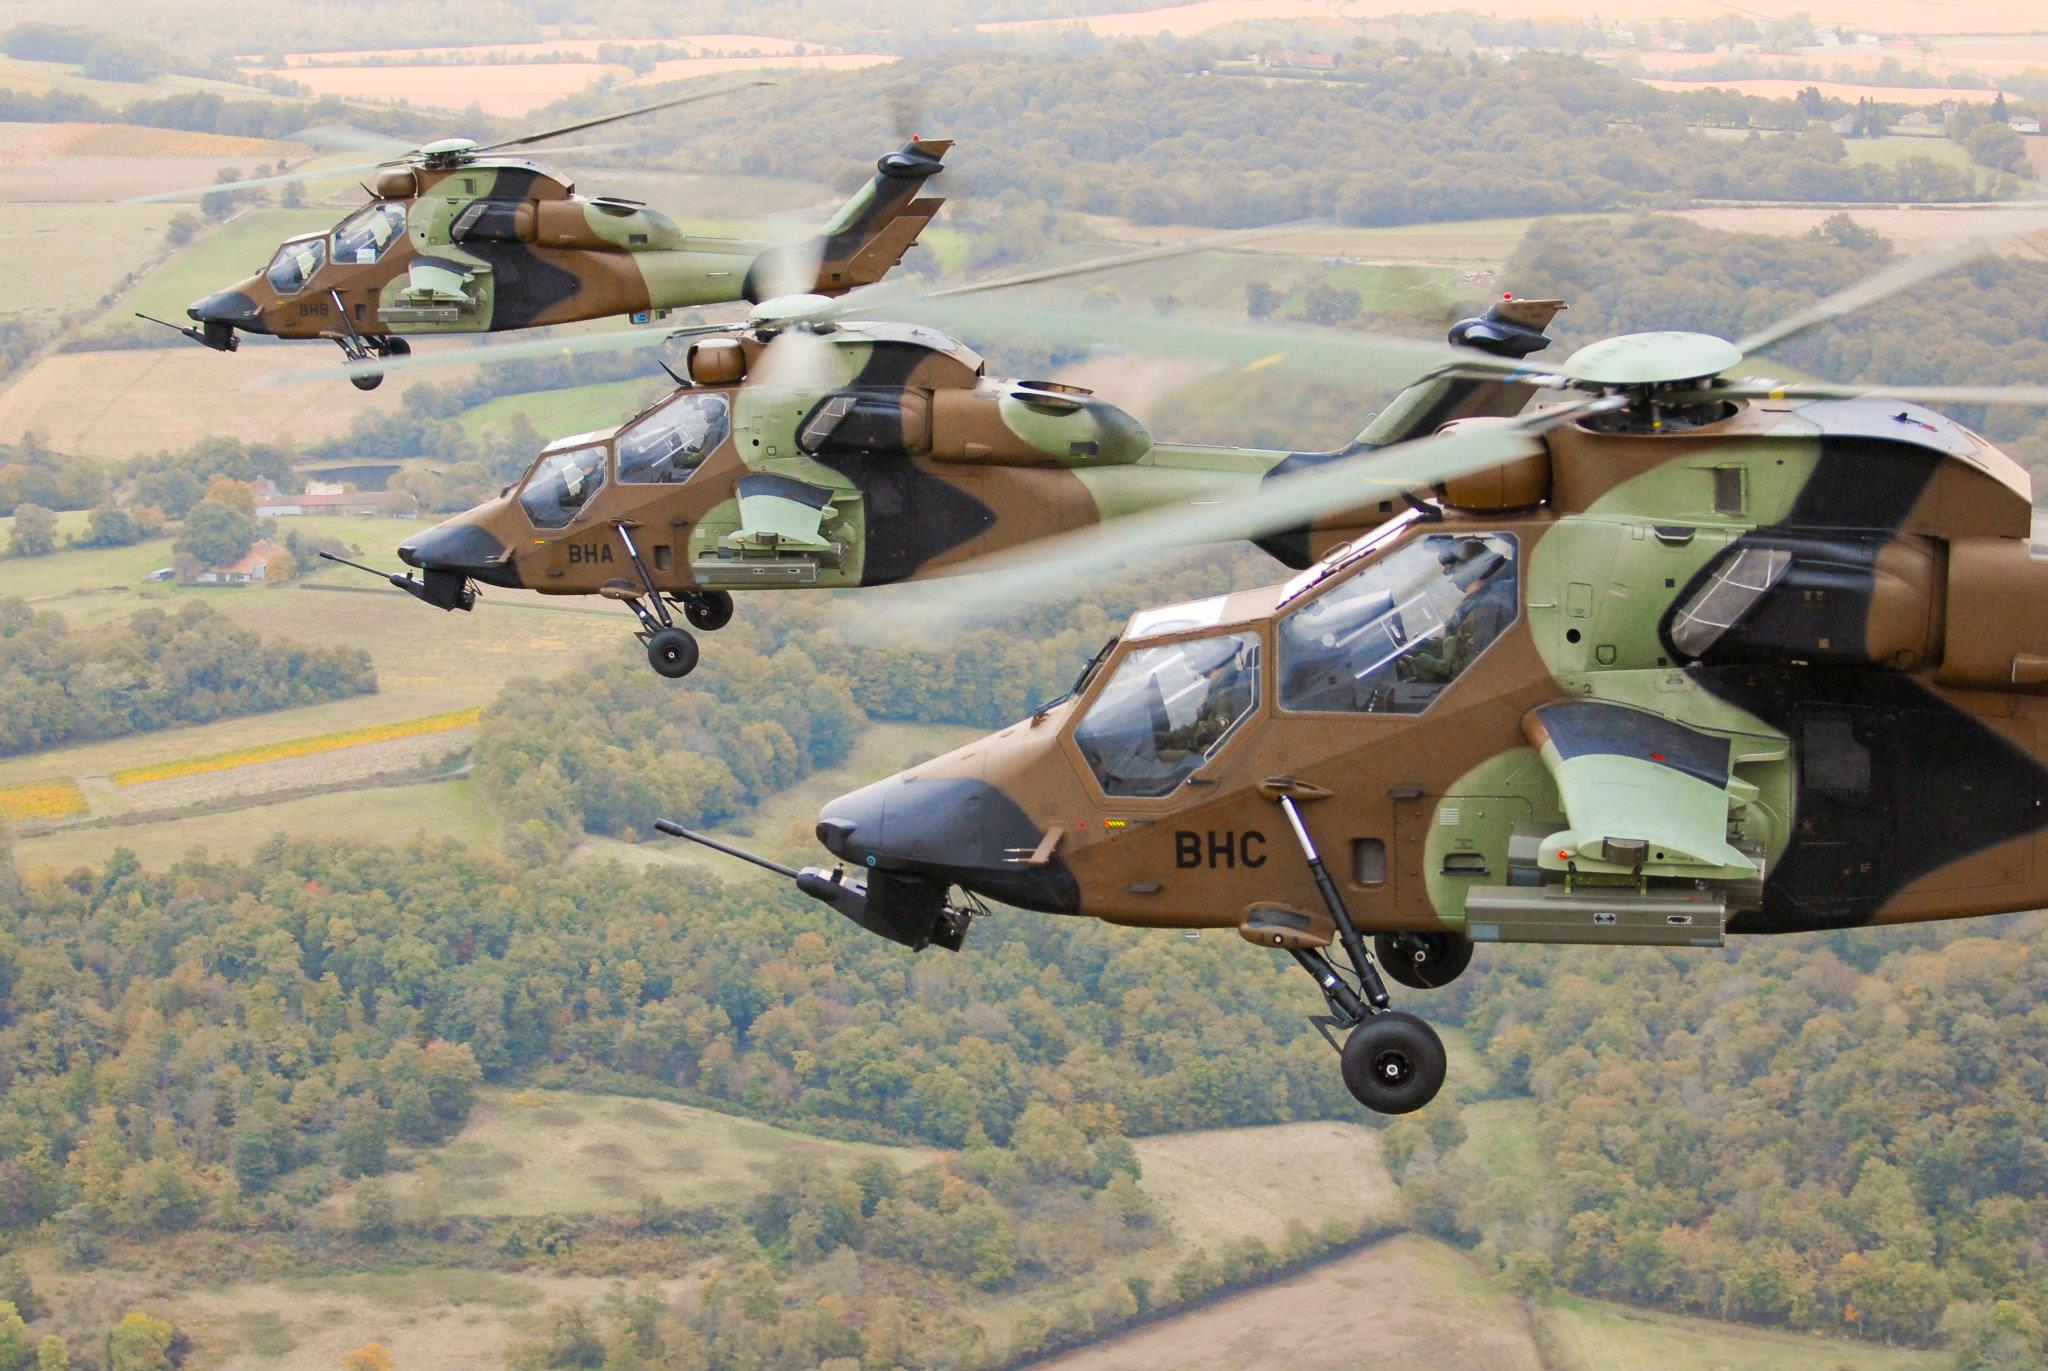Aeronef_militaire: (627, 176, 2048, 1123), (291, 197, 1578, 695), (115, 66, 967, 402)
